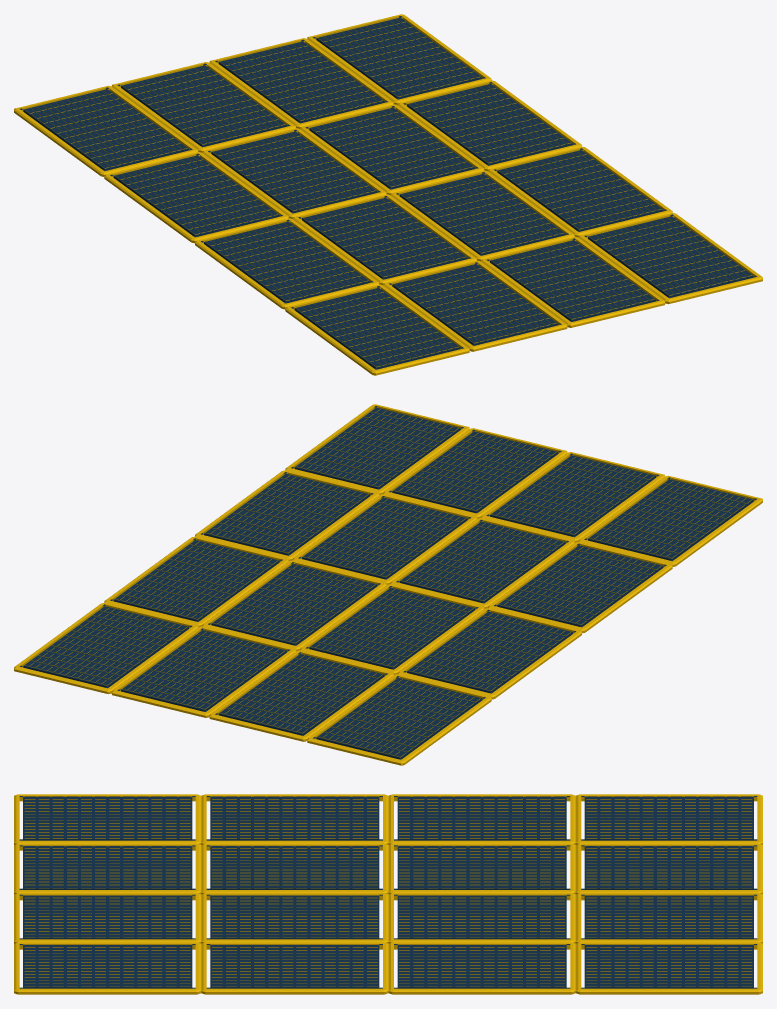
File: Solar Panel.fbx
3 views of the same model, one above another, from view 1: azimuth 30°, elevation 25°; view 2: azimuth 150°, elevation 25°; view 3: azimuth 270°, elevation 25° (orthographic). The views are drawn at different scales.
Parts seen in each view (by area): view 1: Solar Panel; view 2: Solar Panel; view 3: Solar Panel.
Part boxes in pixels (x1,y1,x2,y2): Solar Panel: [14, 14, 762, 375]; Solar Panel: [14, 404, 762, 765]; Solar Panel: [14, 794, 762, 994].
Bounding box in the file's own units: 1079 × 14.37 × 1730.
